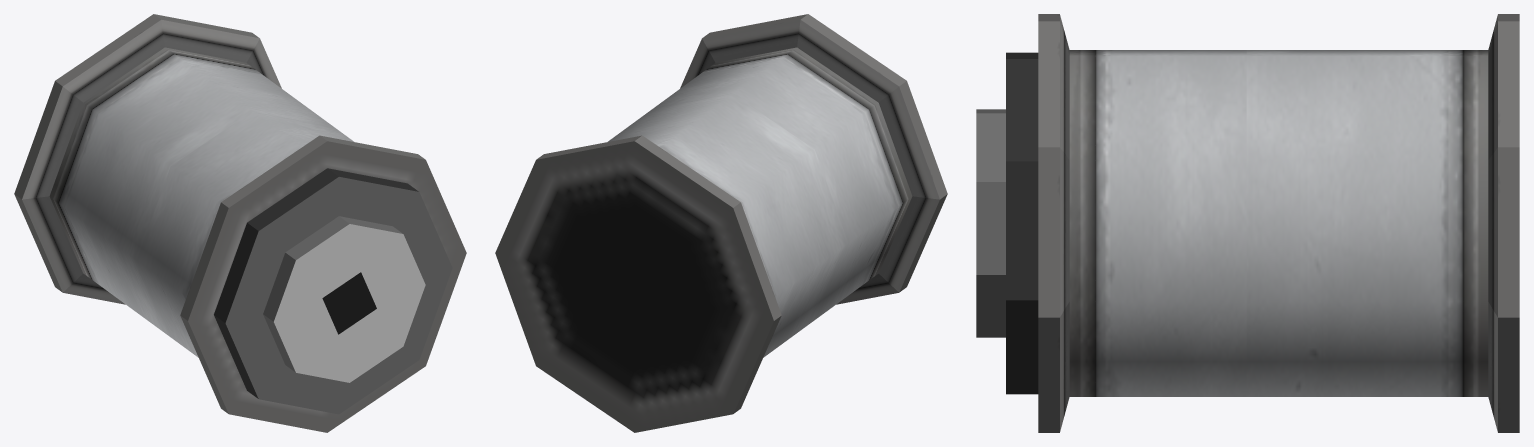
The picture shows the model from 3 angles, left to right: view 1: azimuth 30°, elevation 25°; view 2: azimuth 150°, elevation 25°; view 3: azimuth 270°, elevation 25°; orthographic projection. The views are drawn at different scales.
Visible parts, largest first — view 1: zhuti.II.008; view 2: zhuti.II.008; view 3: zhuti.II.008.
Boxes of the visible parts, bbox=[...] form: zhuti.II.008: bbox=[14, 14, 466, 432]; zhuti.II.008: bbox=[495, 14, 947, 432]; zhuti.II.008: bbox=[976, 14, 1519, 432].
Size of the model in its own units: 8.17 by 8.17 by 9.95.
Materials: 1 (1 with a texture image).
